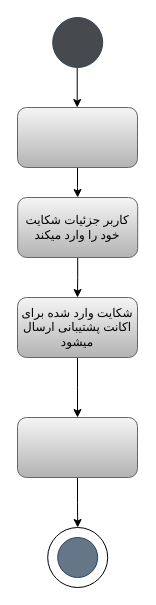
Some shapes in this 156 by 605 pixel diagram are drawn without their labels. Here are the shapes that lost their labels. From the top down, the centre of each, then its label:
(x=77, y=137): کاربر روی گزینه "ثبت شکایت" کلیک میکند
(x=77, y=447): شکایت با موفقیت ثبت میشود
